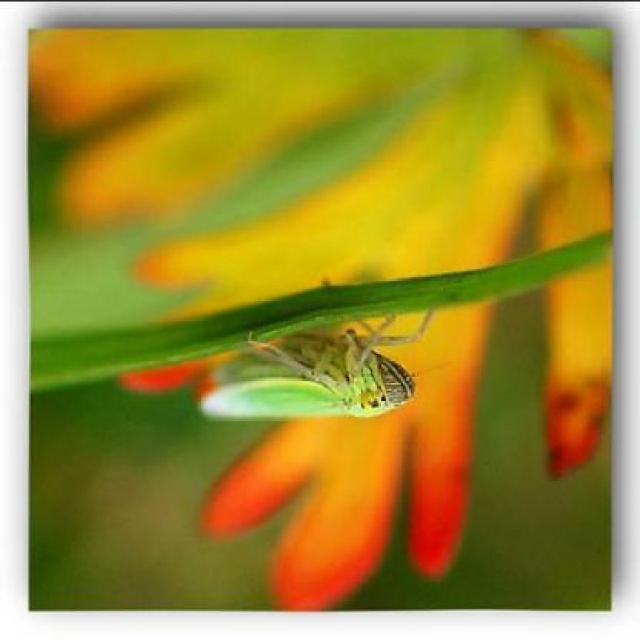green-leafhopper: (190, 322, 421, 426)
